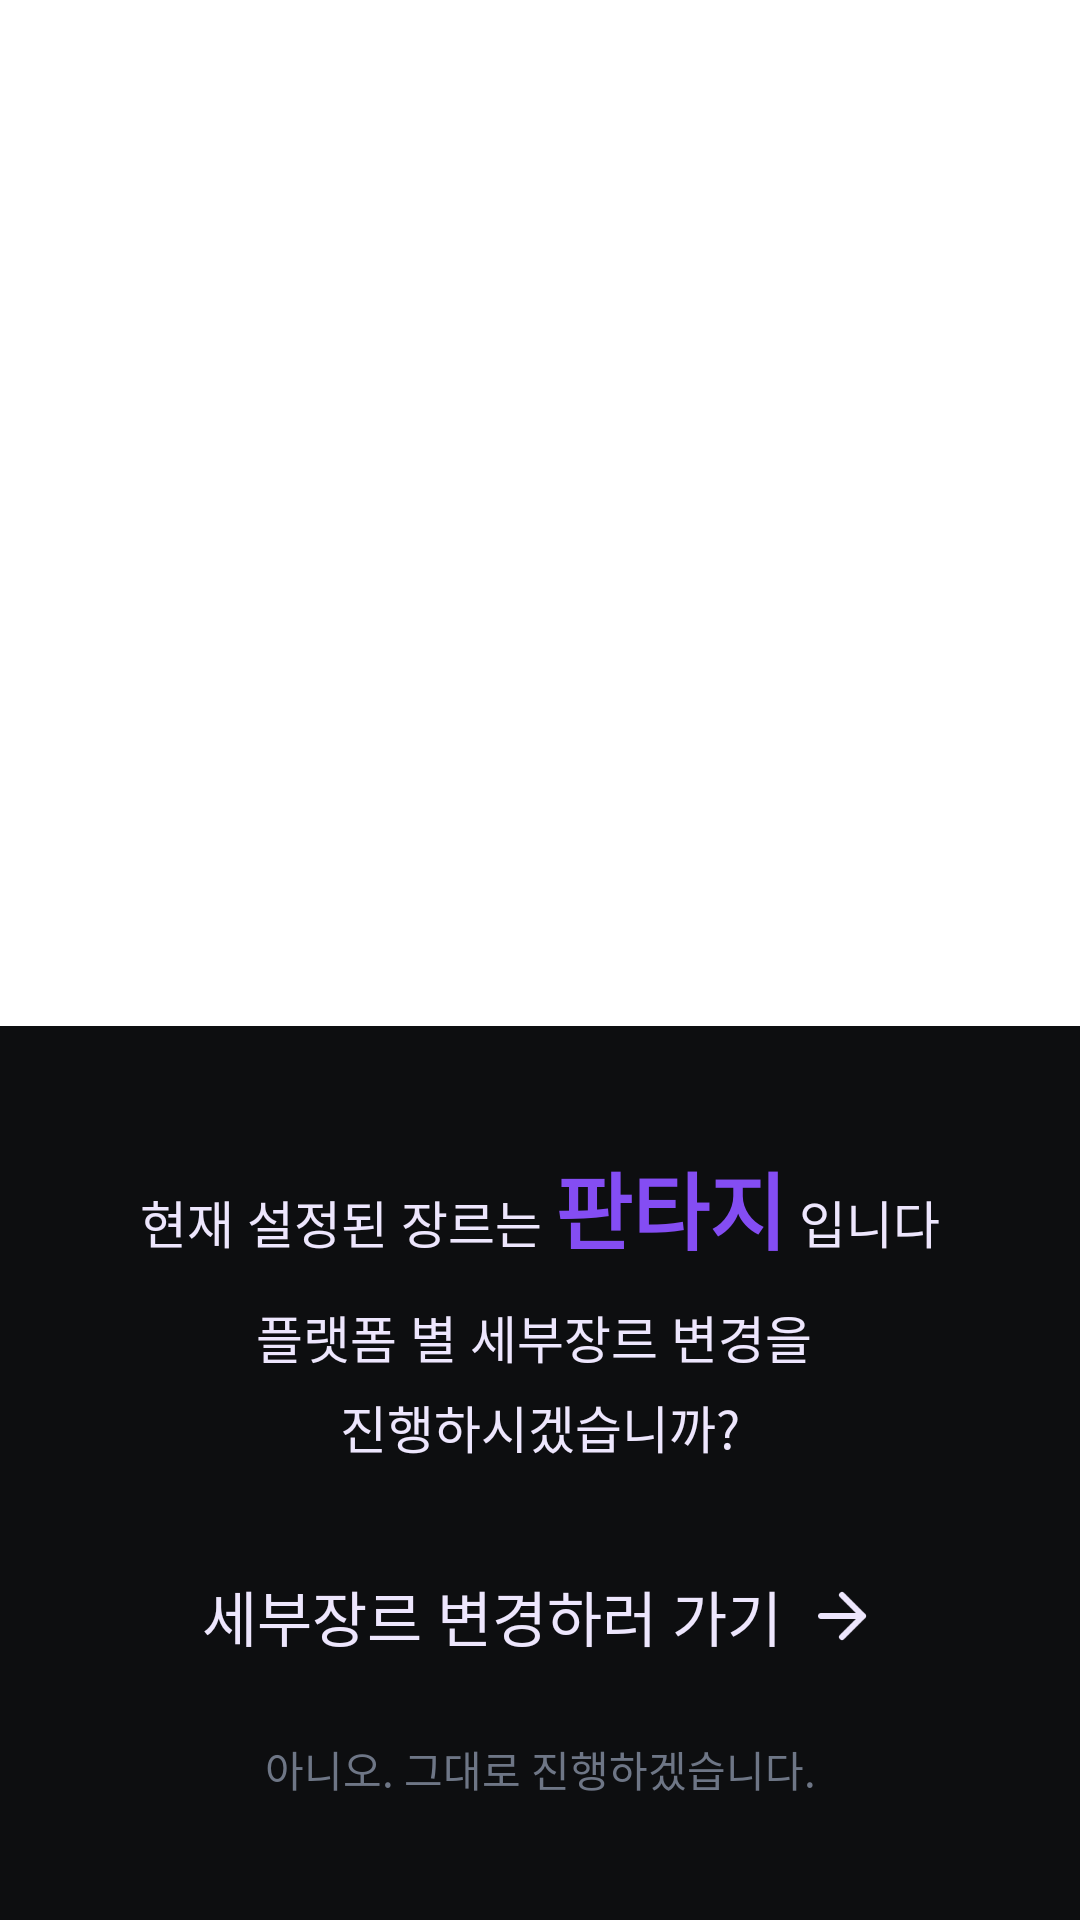

Icon bounding boxes for this 1080×1920 phone screenshot, format [x1,y1,x2,y2]:
arrow right wt: [818,1592,866,1640]
